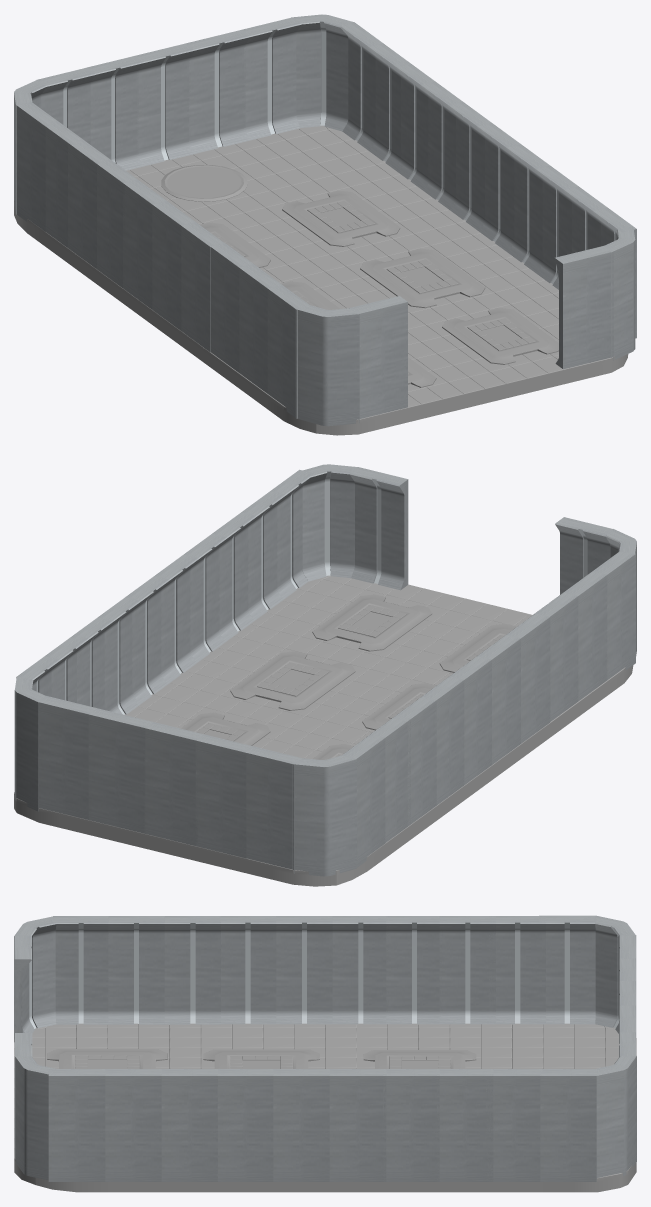
Rendered from maintanence-room-ed.fbx.
The picture shows the model from 3 angles, top to bottom: view 1: azimuth 30°, elevation 25°; view 2: azimuth 150°, elevation 25°; view 3: azimuth 270°, elevation 25°; orthographic projection. The views are drawn at different scales.
Visible parts, largest first — view 1: floor1, Wall2 (×4), Wall1 (×4), Wall3 (×3), Corner2, Wall18, Wall5, Corner3, Wall4 (×2), table_base2, table_base, table_base3 (+17 smaller); view 2: floor1, Wall2 (×4), Wall3 (×3), Wall1 (×4), Corner1, Wall4 (×2), Wall18, Corner4, Wall5, table_base2, table_base, Wall11 (+16 smaller); view 3: floor1, Wall1 (×4), Wall2 (×4), Wall3 (×3), Wall4 (×2), Wall8, Wall7, Wall6, Wall10, Wall9, Wall15, Wall12 (+14 smaller).
Boxes of the visible parts, x1,y1,x2,y2 form: floor1: (14,125,628,435); Wall2 (×4): (85,56,613,372); Wall1 (×4): (16,22,407,418); Wall3 (×3): (185,30,607,393); Corner2: (295,305,359,426); Wall18: (133,43,194,166); Wall5: (241,17,301,140); Corner3: (291,14,353,131); Wall4 (×2): (267,207,636,418); table_base2: (360,248,485,308); table_base: (442,308,558,364); table_base3: (282,190,400,246); floor1: (14,575,633,886); Wall2 (×4): (195,467,578,858); Wall3 (×3): (88,491,607,833); Wall1 (×4): (16,517,613,873); Corner1: (292,755,356,876); Wall4 (×2): (271,469,635,679); Wall18: (144,722,204,845); Corner4: (297,464,359,581); Wall5: (38,696,96,819); table_base2: (230,651,355,710); table_base: (312,594,432,651); Wall11: (506,613,550,743); floor1: (14,1023,636,1192); Wall1 (×4): (14,915,636,1181); Wall2 (×4): (15,916,636,1181); Wall3 (×3): (105,916,636,1181); Wall4 (×2): (48,916,109,1181); Wall8: (329,1069,386,1181); Wall7: (273,1069,329,1181); Wall6: (217,1069,273,1181); Wall10: (436,1069,493,1181); Wall9: (383,1069,439,1181); Wall15: (276,916,332,1024); Wall12: (439,916,495,1024).
Bounding box in the file's own units: 58.57 × 19.83 × 96.03.
